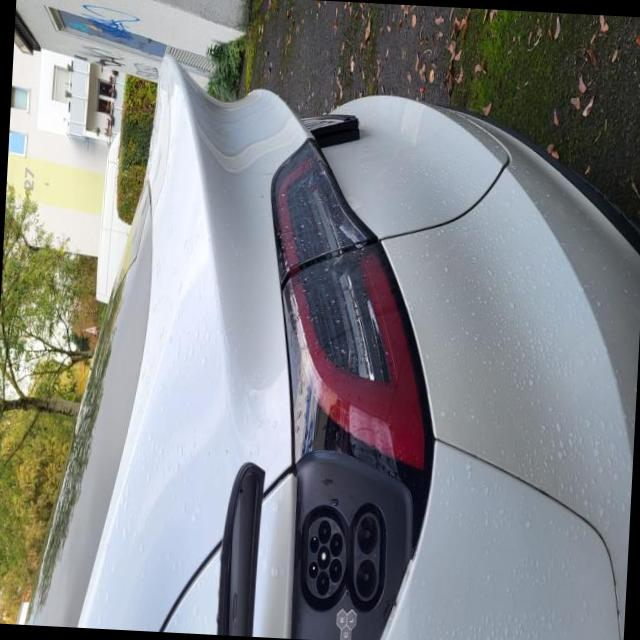inlet: (307, 516, 346, 598)
inlet-above-left: (309, 561, 318, 578)
inlet-above-right: (310, 535, 319, 552)
inlet-below-left: (329, 557, 343, 581)
inlet-below-right: (330, 532, 343, 556)
inlet-center: (317, 545, 330, 569)
inlet-center-left: (316, 570, 329, 594)
inlet-center-right: (318, 519, 331, 543)
